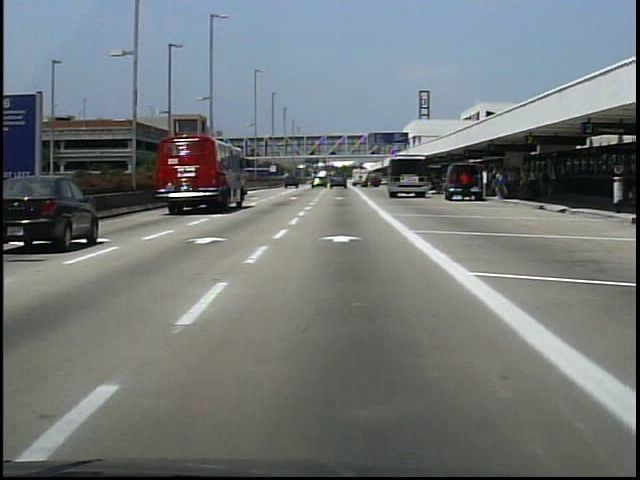person: (459, 166, 475, 204)
